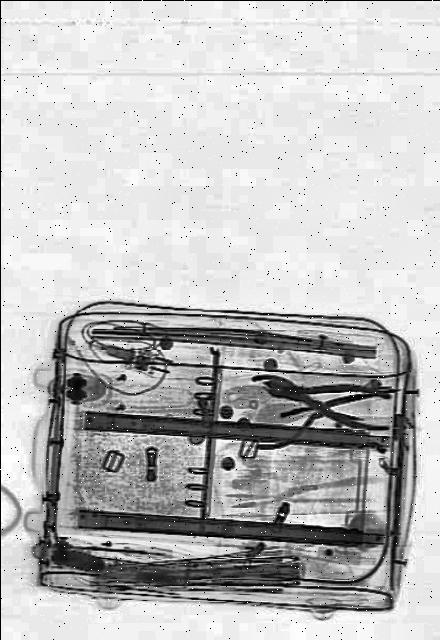Pliers: (261, 363, 395, 432), (251, 369, 364, 449)
